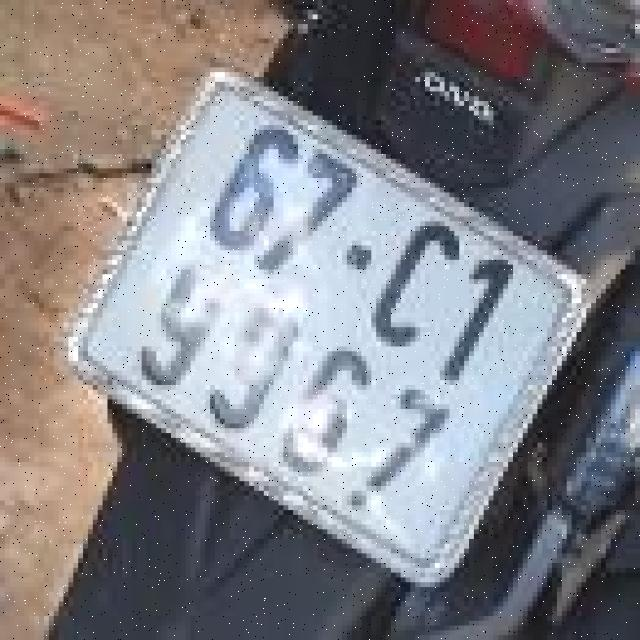1: (415, 244, 538, 394)
6: (263, 328, 393, 490), (194, 116, 317, 267)
7: (326, 369, 476, 535), (248, 141, 371, 287)
9: (181, 289, 331, 449), (118, 246, 252, 408)
C: (355, 207, 480, 369)
